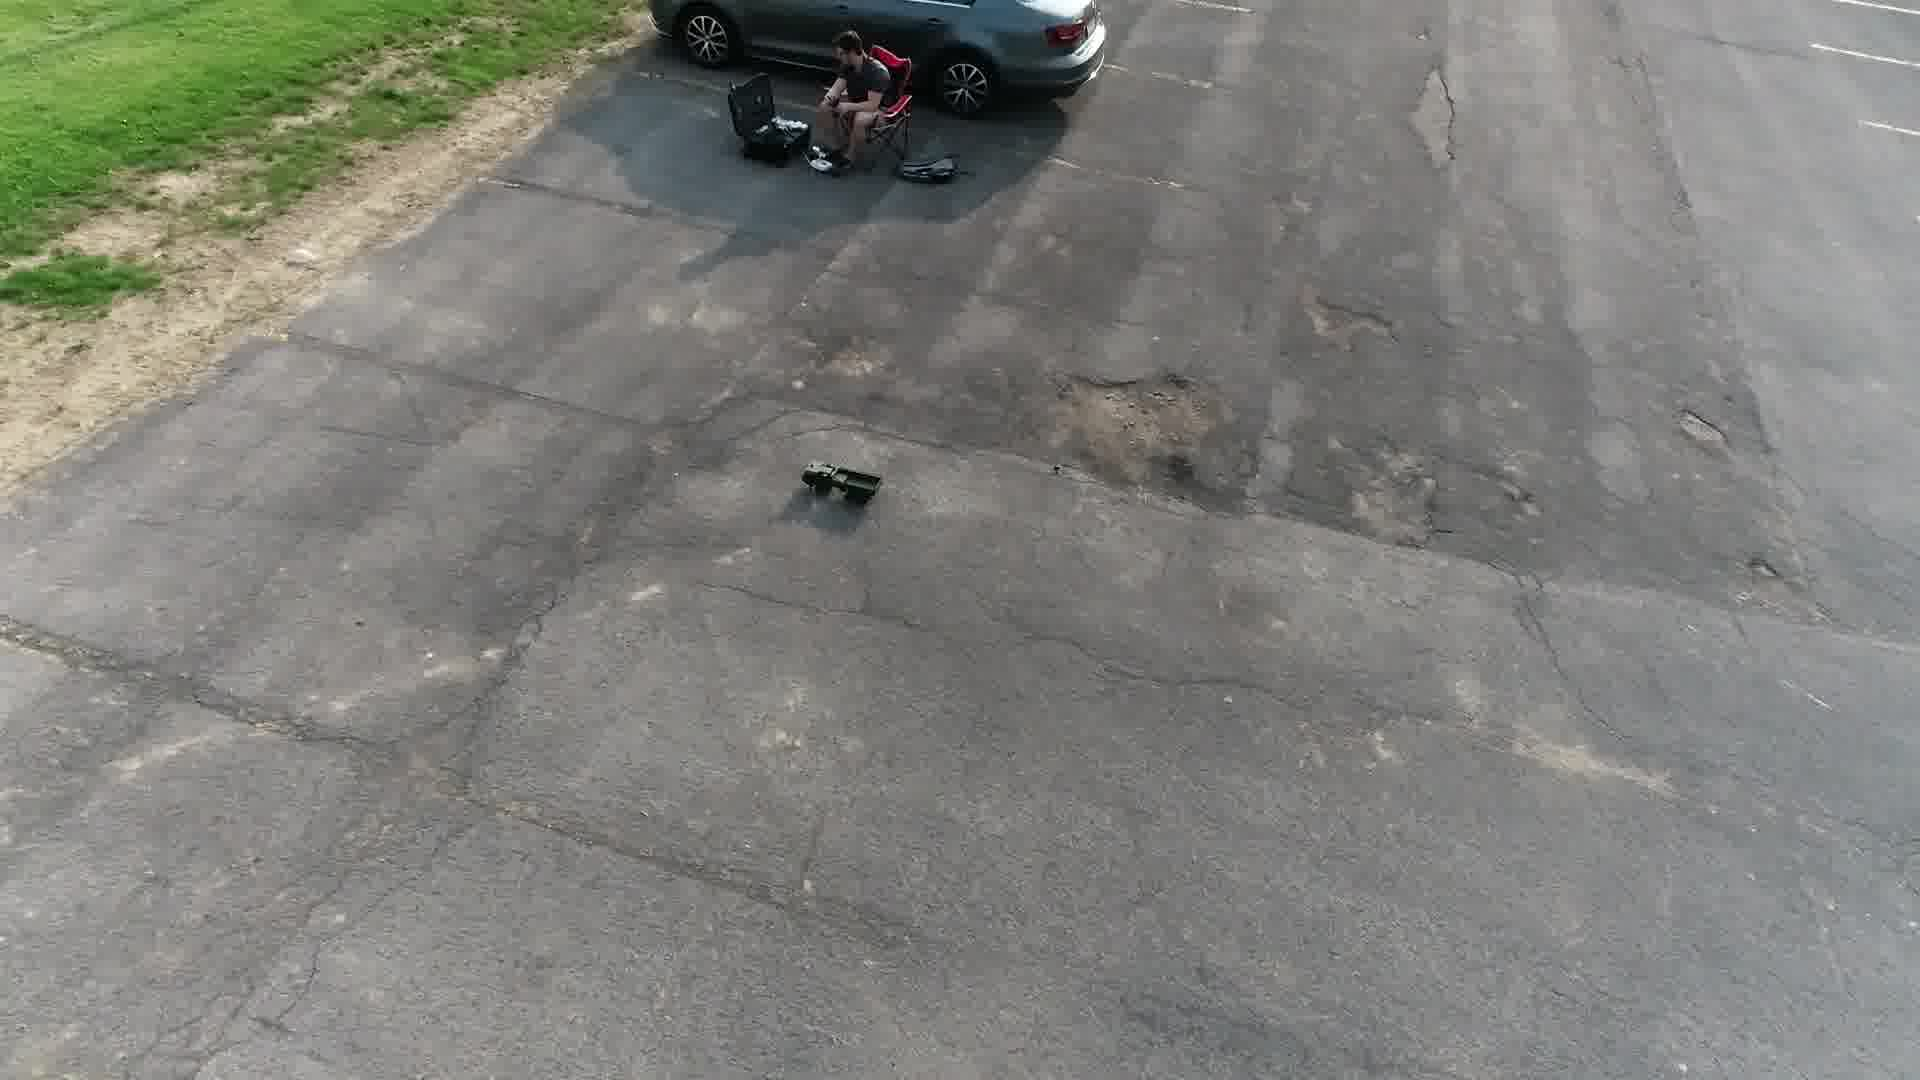transporter9: (799, 458, 886, 509)
